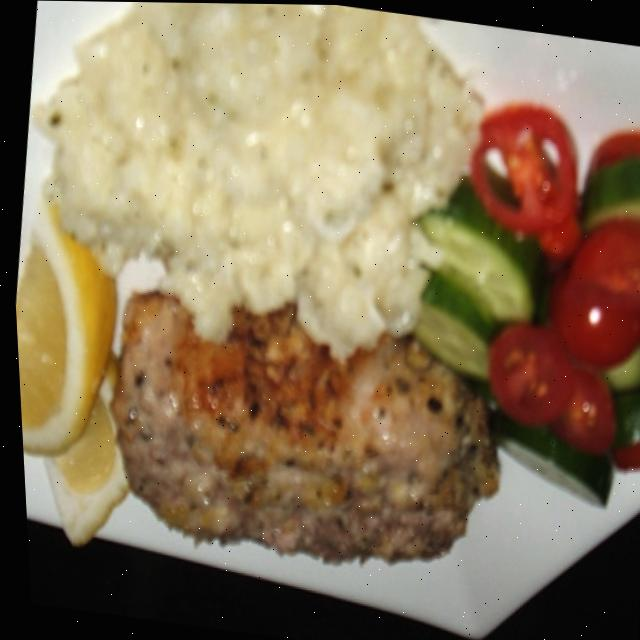猪肉菜式: (9, 1, 640, 640)
